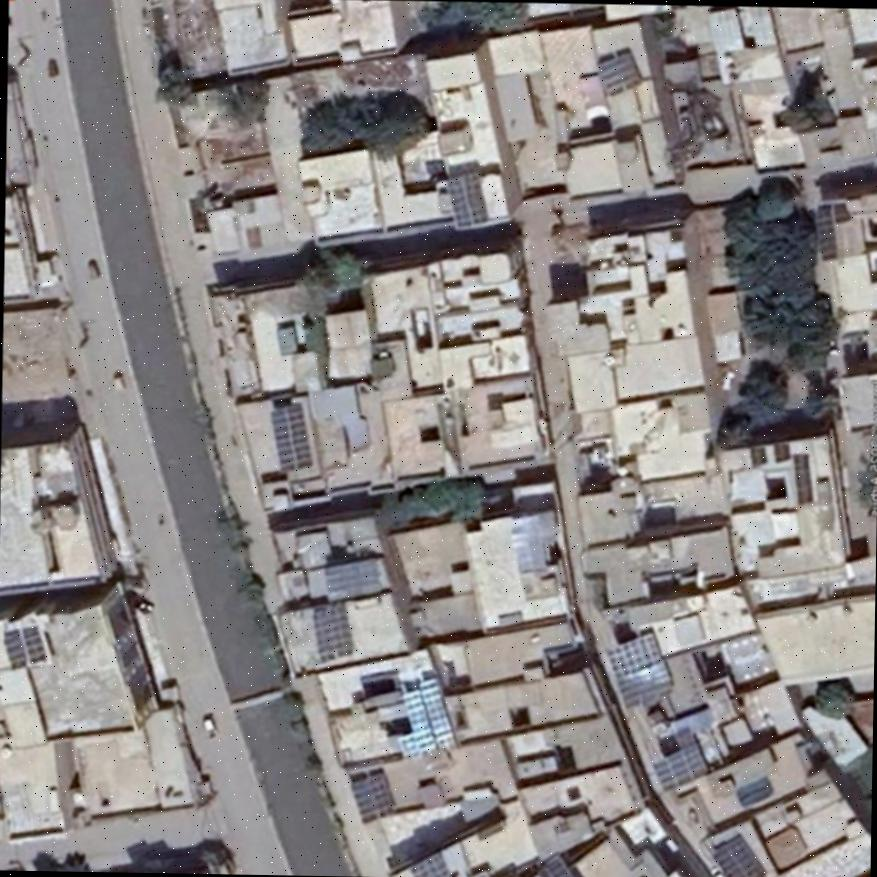Solarpanel: (385, 677, 454, 757), (606, 629, 674, 704), (268, 401, 310, 470), (653, 743, 706, 788), (348, 774, 391, 825), (595, 49, 643, 94), (712, 833, 761, 877), (449, 172, 488, 226), (312, 604, 352, 656), (3, 627, 42, 666), (409, 852, 454, 876)
